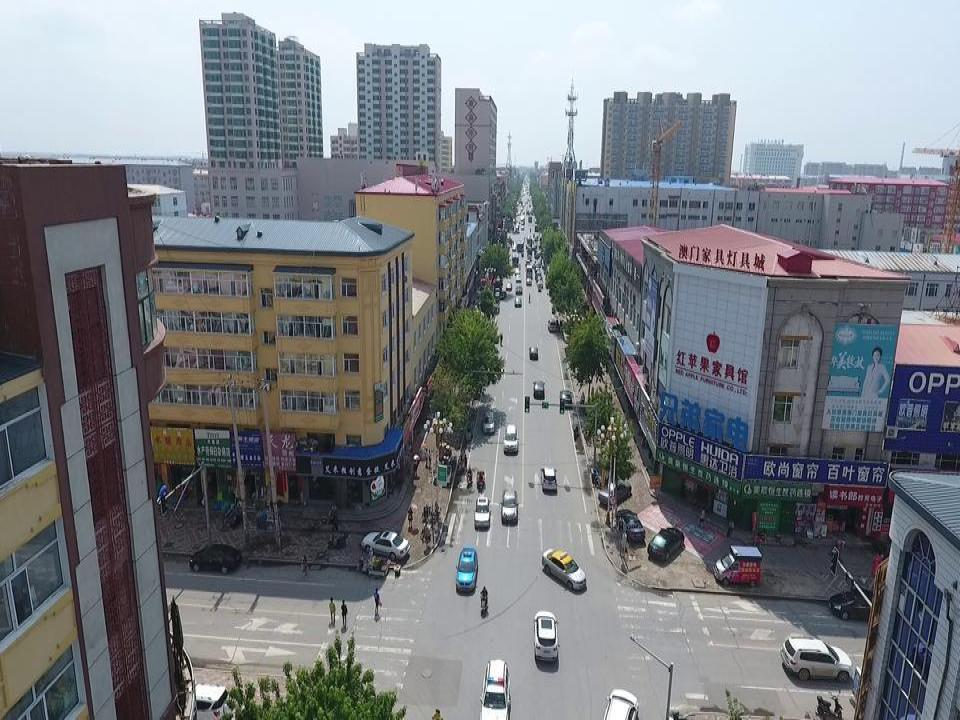bus: (512, 253, 519, 268), (526, 264, 533, 277), (517, 241, 524, 252), (527, 236, 533, 247)
car: (781, 637, 853, 687), (480, 657, 512, 720), (542, 548, 587, 591), (828, 586, 881, 622), (185, 686, 235, 720), (189, 543, 241, 573), (647, 527, 686, 564), (361, 530, 411, 558), (533, 611, 559, 660), (602, 689, 640, 720), (616, 505, 646, 542), (599, 475, 631, 508), (456, 546, 478, 590), (501, 488, 519, 524), (474, 497, 491, 531), (502, 424, 519, 455), (540, 465, 558, 494), (483, 410, 496, 435), (533, 380, 546, 399), (560, 391, 572, 406), (529, 345, 539, 360), (514, 297, 522, 307), (515, 284, 522, 295), (505, 281, 512, 291), (499, 290, 507, 298), (537, 281, 543, 288), (536, 277, 542, 284), (535, 272, 541, 279), (526, 277, 531, 284), (535, 266, 539, 274), (515, 267, 520, 273), (536, 260, 540, 267), (512, 244, 516, 251), (516, 275, 520, 281), (526, 259, 530, 265), (528, 255, 532, 261), (535, 253, 539, 259), (536, 264, 540, 269), (525, 243, 529, 248), (534, 236, 538, 241), (533, 243, 537, 248)
van: (714, 546, 764, 586), (548, 317, 556, 332), (527, 248, 533, 255), (527, 246, 532, 253)
